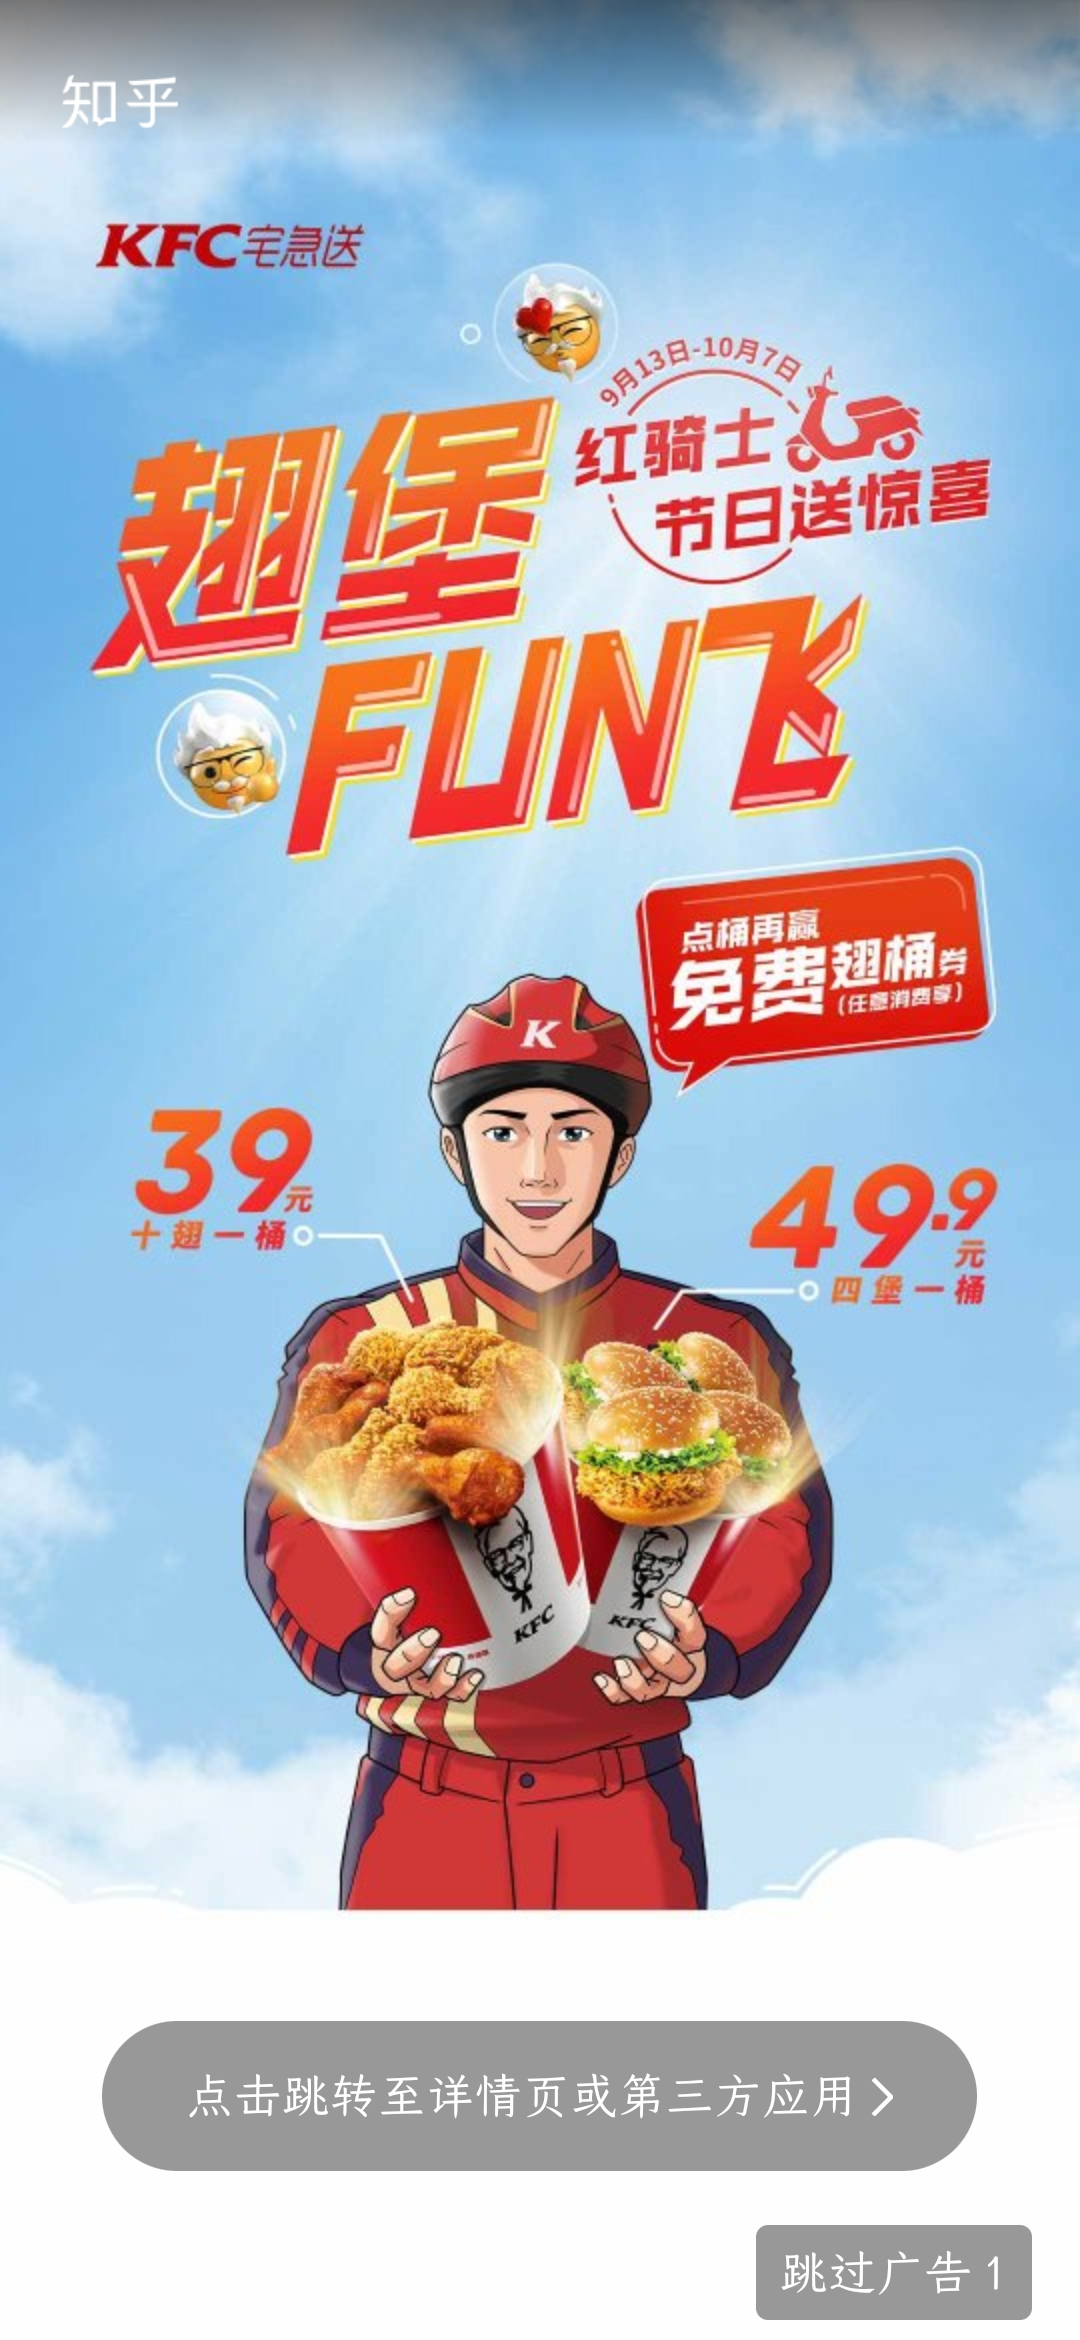skip: (762, 2237, 1026, 2315)
